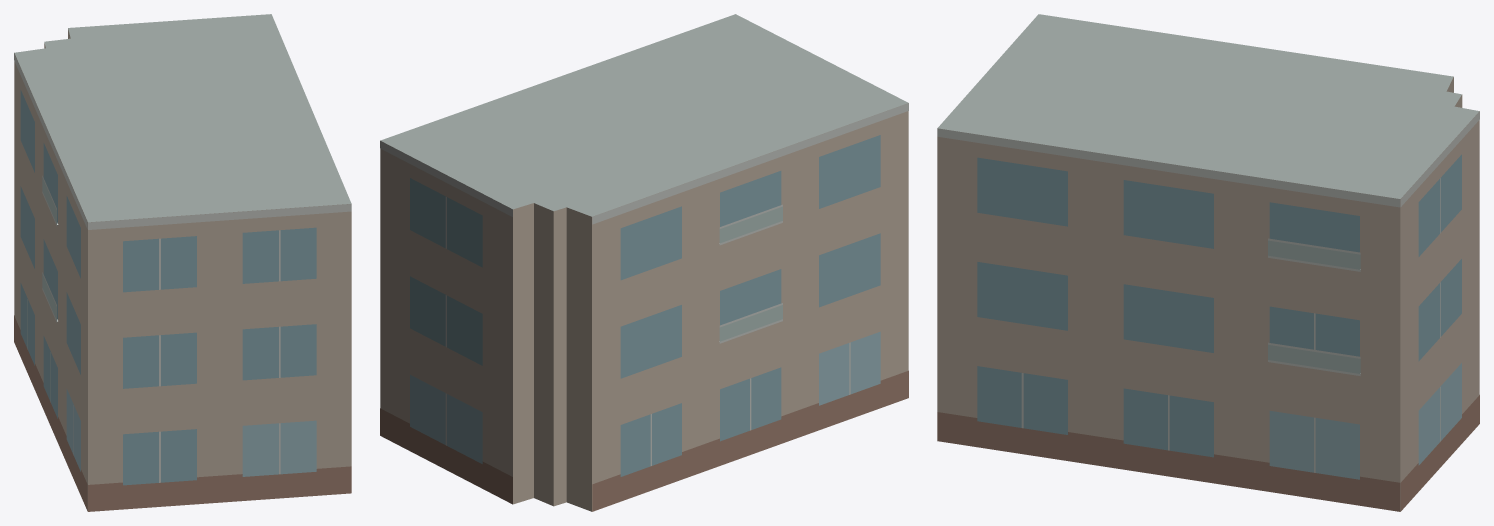
File: survey-upis-32512604.glb
The picture shows the model from 3 angles, left to right: view 1: azimuth 30°, elevation 25°; view 2: azimuth 150°, elevation 25°; view 3: azimuth 270°, elevation 25°; orthographic projection. The views are drawn at different scales.
Visible parts, largest first — view 1: survey-upis-32512604.tmp; view 2: survey-upis-32512604.tmp; view 3: survey-upis-32512604.tmp.
Boxes of the visible parts, x1,y1,x2,y2 form: survey-upis-32512604.tmp: [14, 14, 351, 511]; survey-upis-32512604.tmp: [380, 14, 908, 511]; survey-upis-32512604.tmp: [937, 14, 1479, 511].
Bounding box in the file's own units: 11.56 × 9.1 × 14.31.
